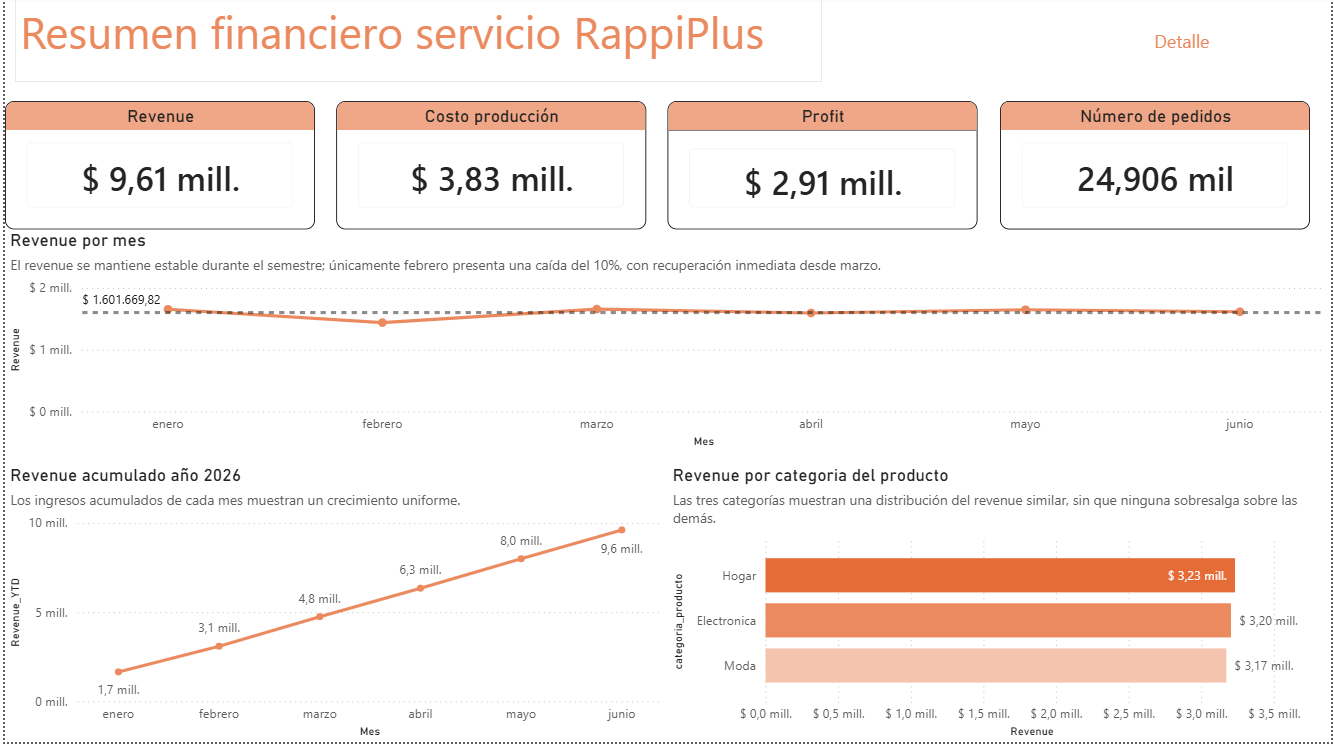

Layout of this report page (visuals, bound fields, positions):
{"tool":"powerbi","page":{"name":"Overview ejecutivo","canvas":[1280,720],"ordinal":0},"visuals":[{"type":"textbox","box":[9.7,0,779.4,83.2],"z":0},{"type":"cardVisual","title":"Revenue","fields":{"Data":["orders_clean.Revenue"]},"box":[0,101.3,299.2,124.3],"z":1000},{"type":"cardVisual","title":"Costo producción","fields":{"Data":["orders_clean.costo_produccion"]},"box":[319.7,101.3,299.2,124.3],"z":2000},{"type":"cardVisual","title":"Profit","fields":{"Data":["orders_clean.profit"]},"box":[639.4,101.3,299.2,124.3],"z":3000},{"type":"lineChart","title":"Revenue por mes","fields":{"Y":["orders_clean.Revenue"],"Category":["dim_fecha.Date.Variación.Jerarquía de fechas.Mes"]},"box":[0,225.9,1279.8,214.7],"z":4000},{"type":"lineChart","title":"Revenue acumulado año 2026","fields":{"Category":["dim_fecha.Date.Variación.Jerarquía de fechas.Mes","dim_fecha.Date.Variación.Jerarquía de fechas.Día"],"Y":["orders_clean.Revenue_YTD"]},"box":[0,452.4,639.4,267.8],"z":5000},{"type":"clusteredBarChart","title":"Revenue por categoria del producto","fields":{"Category":["orders_clean.categoria_producto"],"Y":["orders_clean.Revenue"]},"box":[639.4,452.4,640.6,267.8],"z":6000},{"type":"actionButton","title":"Detalle","box":[1037.5,13.3,196.6,59.1],"z":7000},{"type":"cardVisual","title":"Número de pedidos","fields":{"Data":["Count(orders_clean.id_pedido)"]},"box":[960.3,101.3,299.2,124.3],"z":8000}]}

Visuals, with their boxes in screenshot pixels (x1, y1, x2, y2), scaled from the page's 1280x720 canvas onto the 1334x744 screenshot:
textbox: l=10, t=0, r=822, b=86
"Revenue" cardVisual: l=0, t=105, r=312, b=233
"Costo producción" cardVisual: l=333, t=105, r=645, b=233
"Profit" cardVisual: l=666, t=105, r=978, b=233
"Revenue por mes" lineChart: l=0, t=233, r=1333, b=455
"Revenue acumulado año 2026" lineChart: l=0, t=467, r=666, b=743
"Revenue por categoria del producto" clusteredBarChart: l=666, t=467, r=1333, b=743
"Detalle" actionButton: l=1081, t=14, r=1286, b=75
"Número de pedidos" cardVisual: l=1001, t=105, r=1313, b=233
